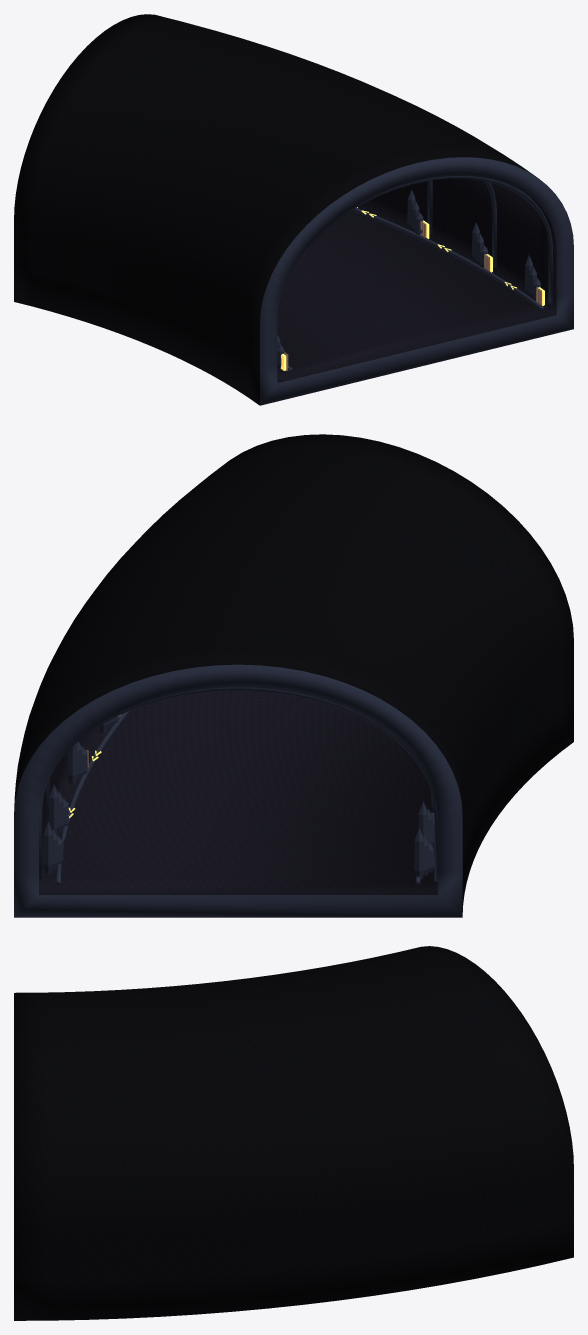
Rendered from curve_left_30_lod1.glb.
3 renders of one model, top to bottom at view 1: azimuth 30°, elevation 25°; view 2: azimuth 150°, elevation 25°; view 3: azimuth 270°, elevation 25°, orthographic. The views are drawn at different scales.
Parts seen in each view (by area): view 1: TunnelGeometry.001; view 2: TunnelGeometry.001; view 3: TunnelGeometry.001.
Part boxes in pixels (x1,y1,x2,y2): TunnelGeometry.001: [14, 14, 573, 405]; TunnelGeometry.001: [14, 434, 573, 917]; TunnelGeometry.001: [14, 946, 573, 1320].
Size of the model in its own units: 19.1 by 9.52 by 21.83.
Materials: 5 (2 with a texture image).
